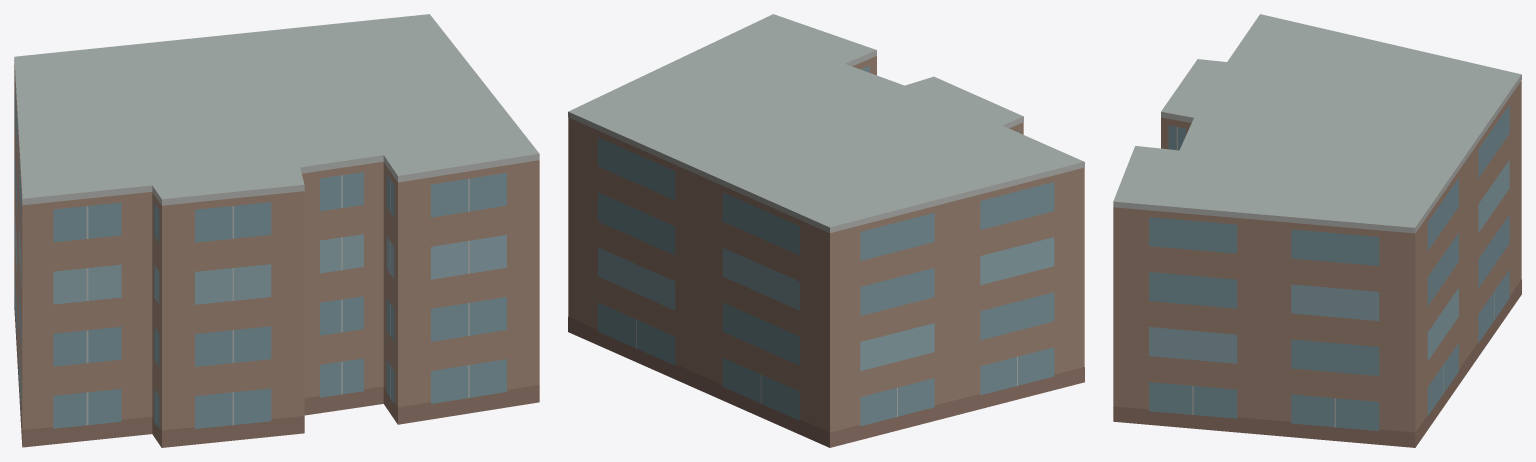
File: survey-upis-32687234.glb
3 renders of one model, left to right at view 1: azimuth 30°, elevation 25°; view 2: azimuth 150°, elevation 25°; view 3: azimuth 270°, elevation 25°, orthographic. The views are drawn at different scales.
Visible parts, largest first — view 1: survey-upis-32687234.tmp; view 2: survey-upis-32687234.tmp; view 3: survey-upis-32687234.tmp.
Boxes of the visible parts, <box> form: survey-upis-32687234.tmp: <box>14,14,539,447</box>; survey-upis-32687234.tmp: <box>568,14,1084,447</box>; survey-upis-32687234.tmp: <box>1113,14,1521,447</box>.
Bounding box in the file's own units: 19.81 × 9.5 × 16.
